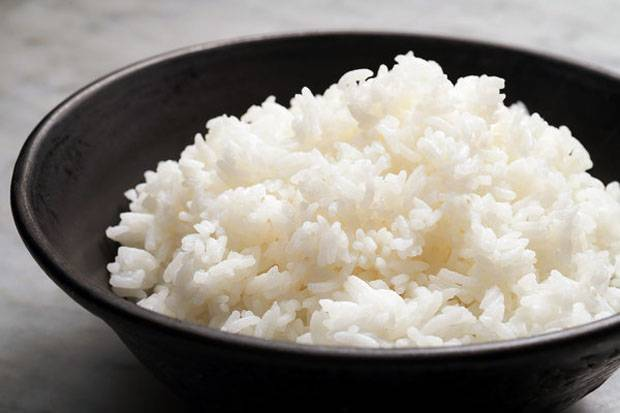Nasi Putih: (72, 52, 615, 359)
